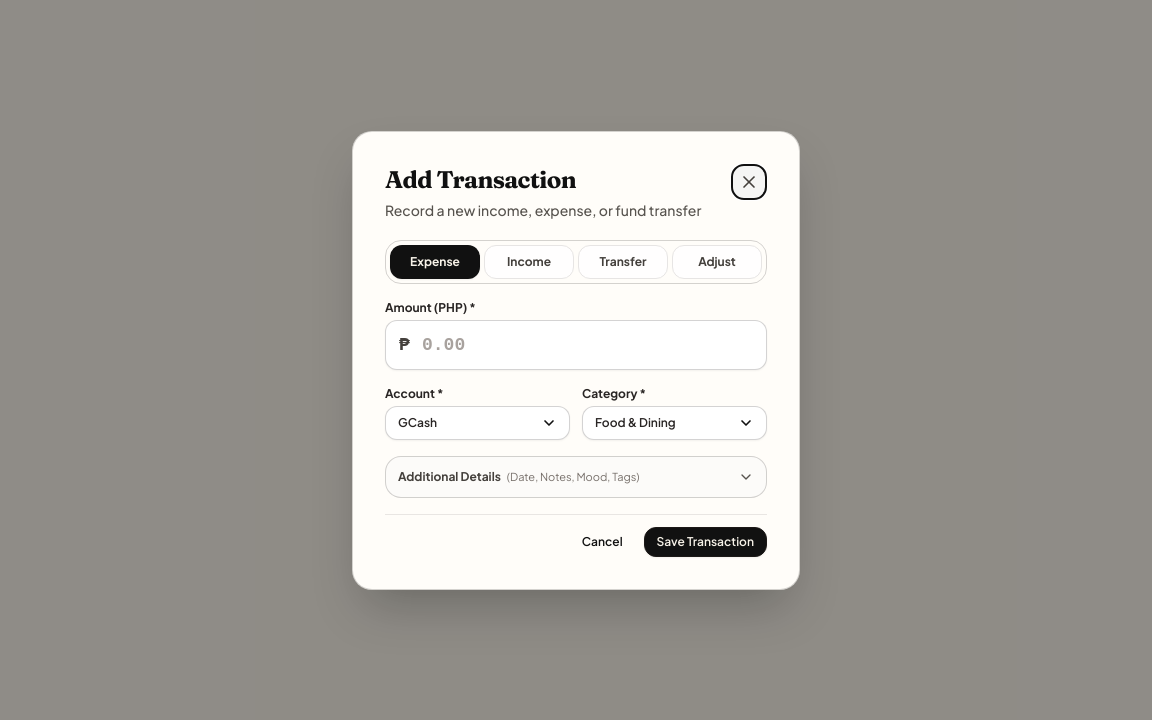
it: TransactionFormModal Component (TDD) › Note Autocomplete Suggestions › shows matching note suggestions when user types in Note field
Replace the text in the dropdown with test id "transaction-notes-input" with "ramen" at (576, 476), box [385,456,767,498]
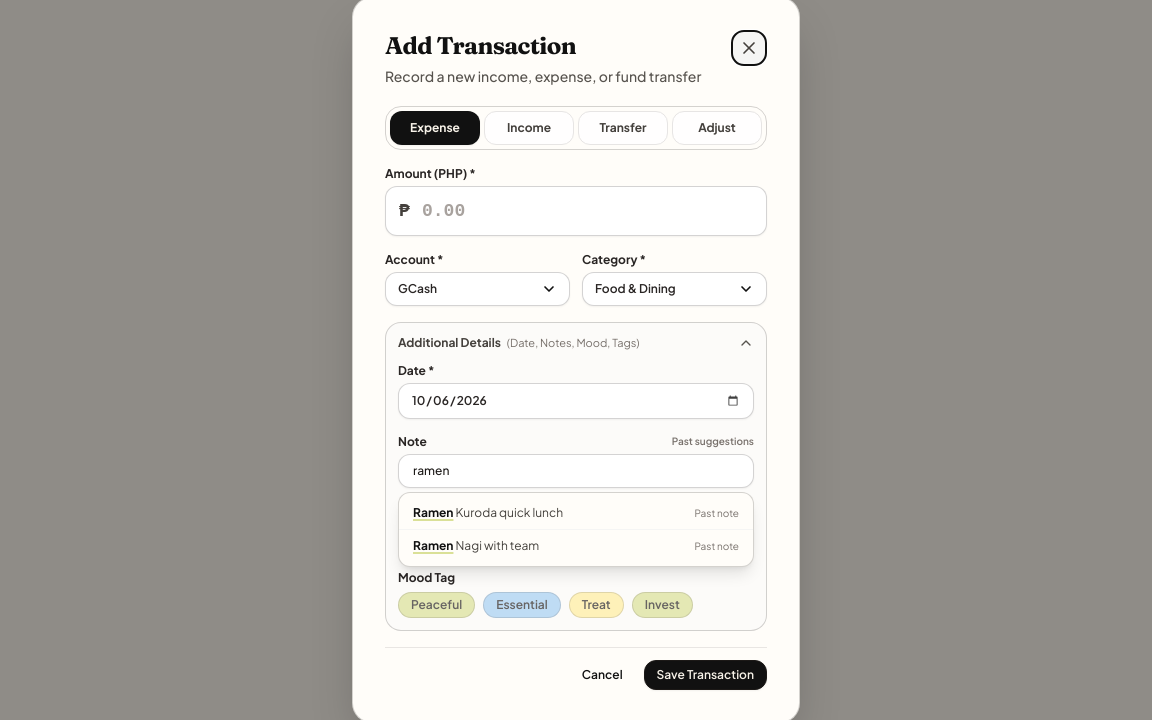
Check: the list with test id "note-suggestions-dropdown" is shown, box [398,492,754,567]
Check: the option with test id "note-suggestion-0" shows "Ramen Kuroda quick lunch", box [413,505,739,520]
Check: the option with test id "note-suggestion-1" shows "Ramen Nagi with team", box [399,529,753,562]
